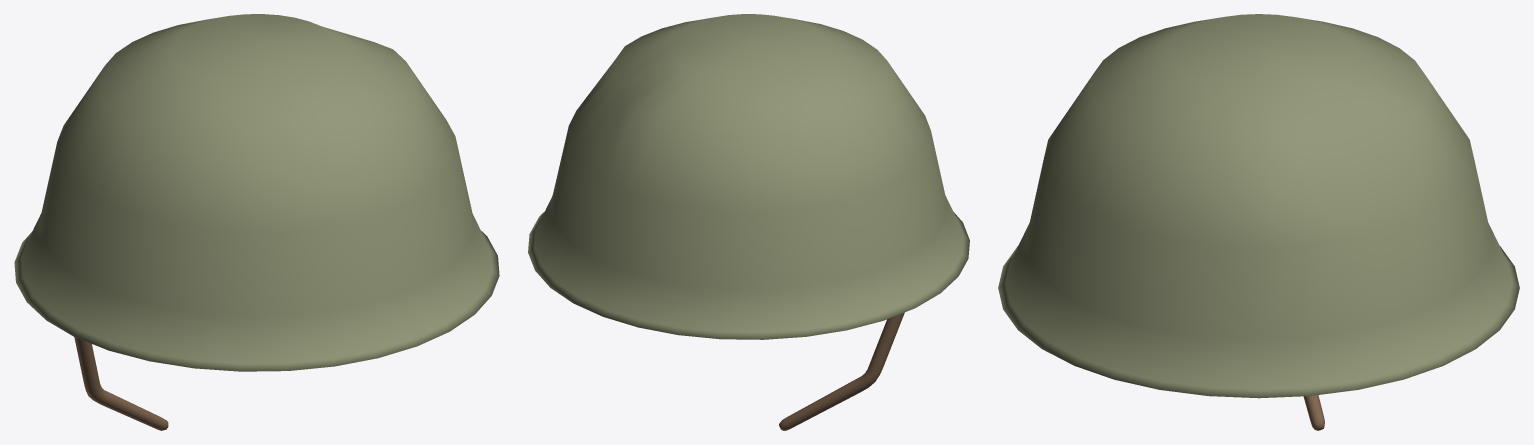
File: helmet_m1.glb
The picture shows the model from 3 angles, left to right: view 1: azimuth 30°, elevation 25°; view 2: azimuth 150°, elevation 25°; view 3: azimuth 270°, elevation 25°; orthographic projection. The views are drawn at different scales.
Parts seen in each view (by area): view 1: helmet_m1; view 2: helmet_m1; view 3: helmet_m1.
Part boxes in pixels (x1,y1,x2,y2): helmet_m1: [14, 14, 499, 430]; helmet_m1: [528, 14, 969, 430]; helmet_m1: [998, 14, 1519, 430].
Bounding box in the file's own units: 0.34 × 0.3014 × 0.34.
